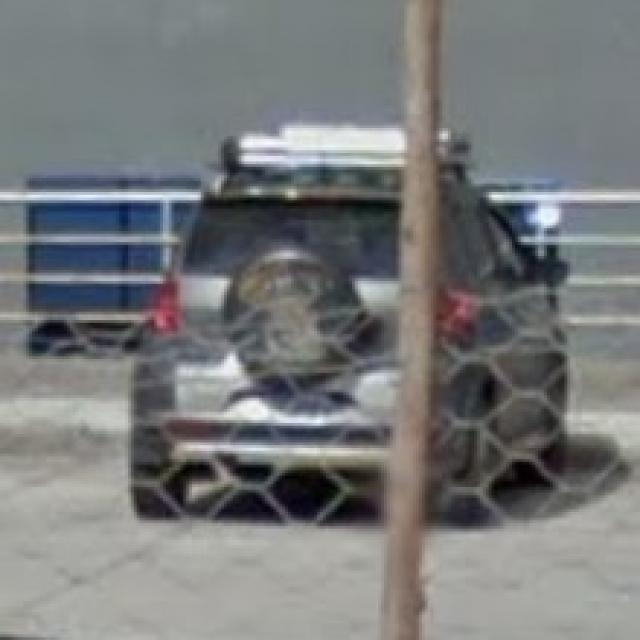Car: (129, 123, 579, 504)
